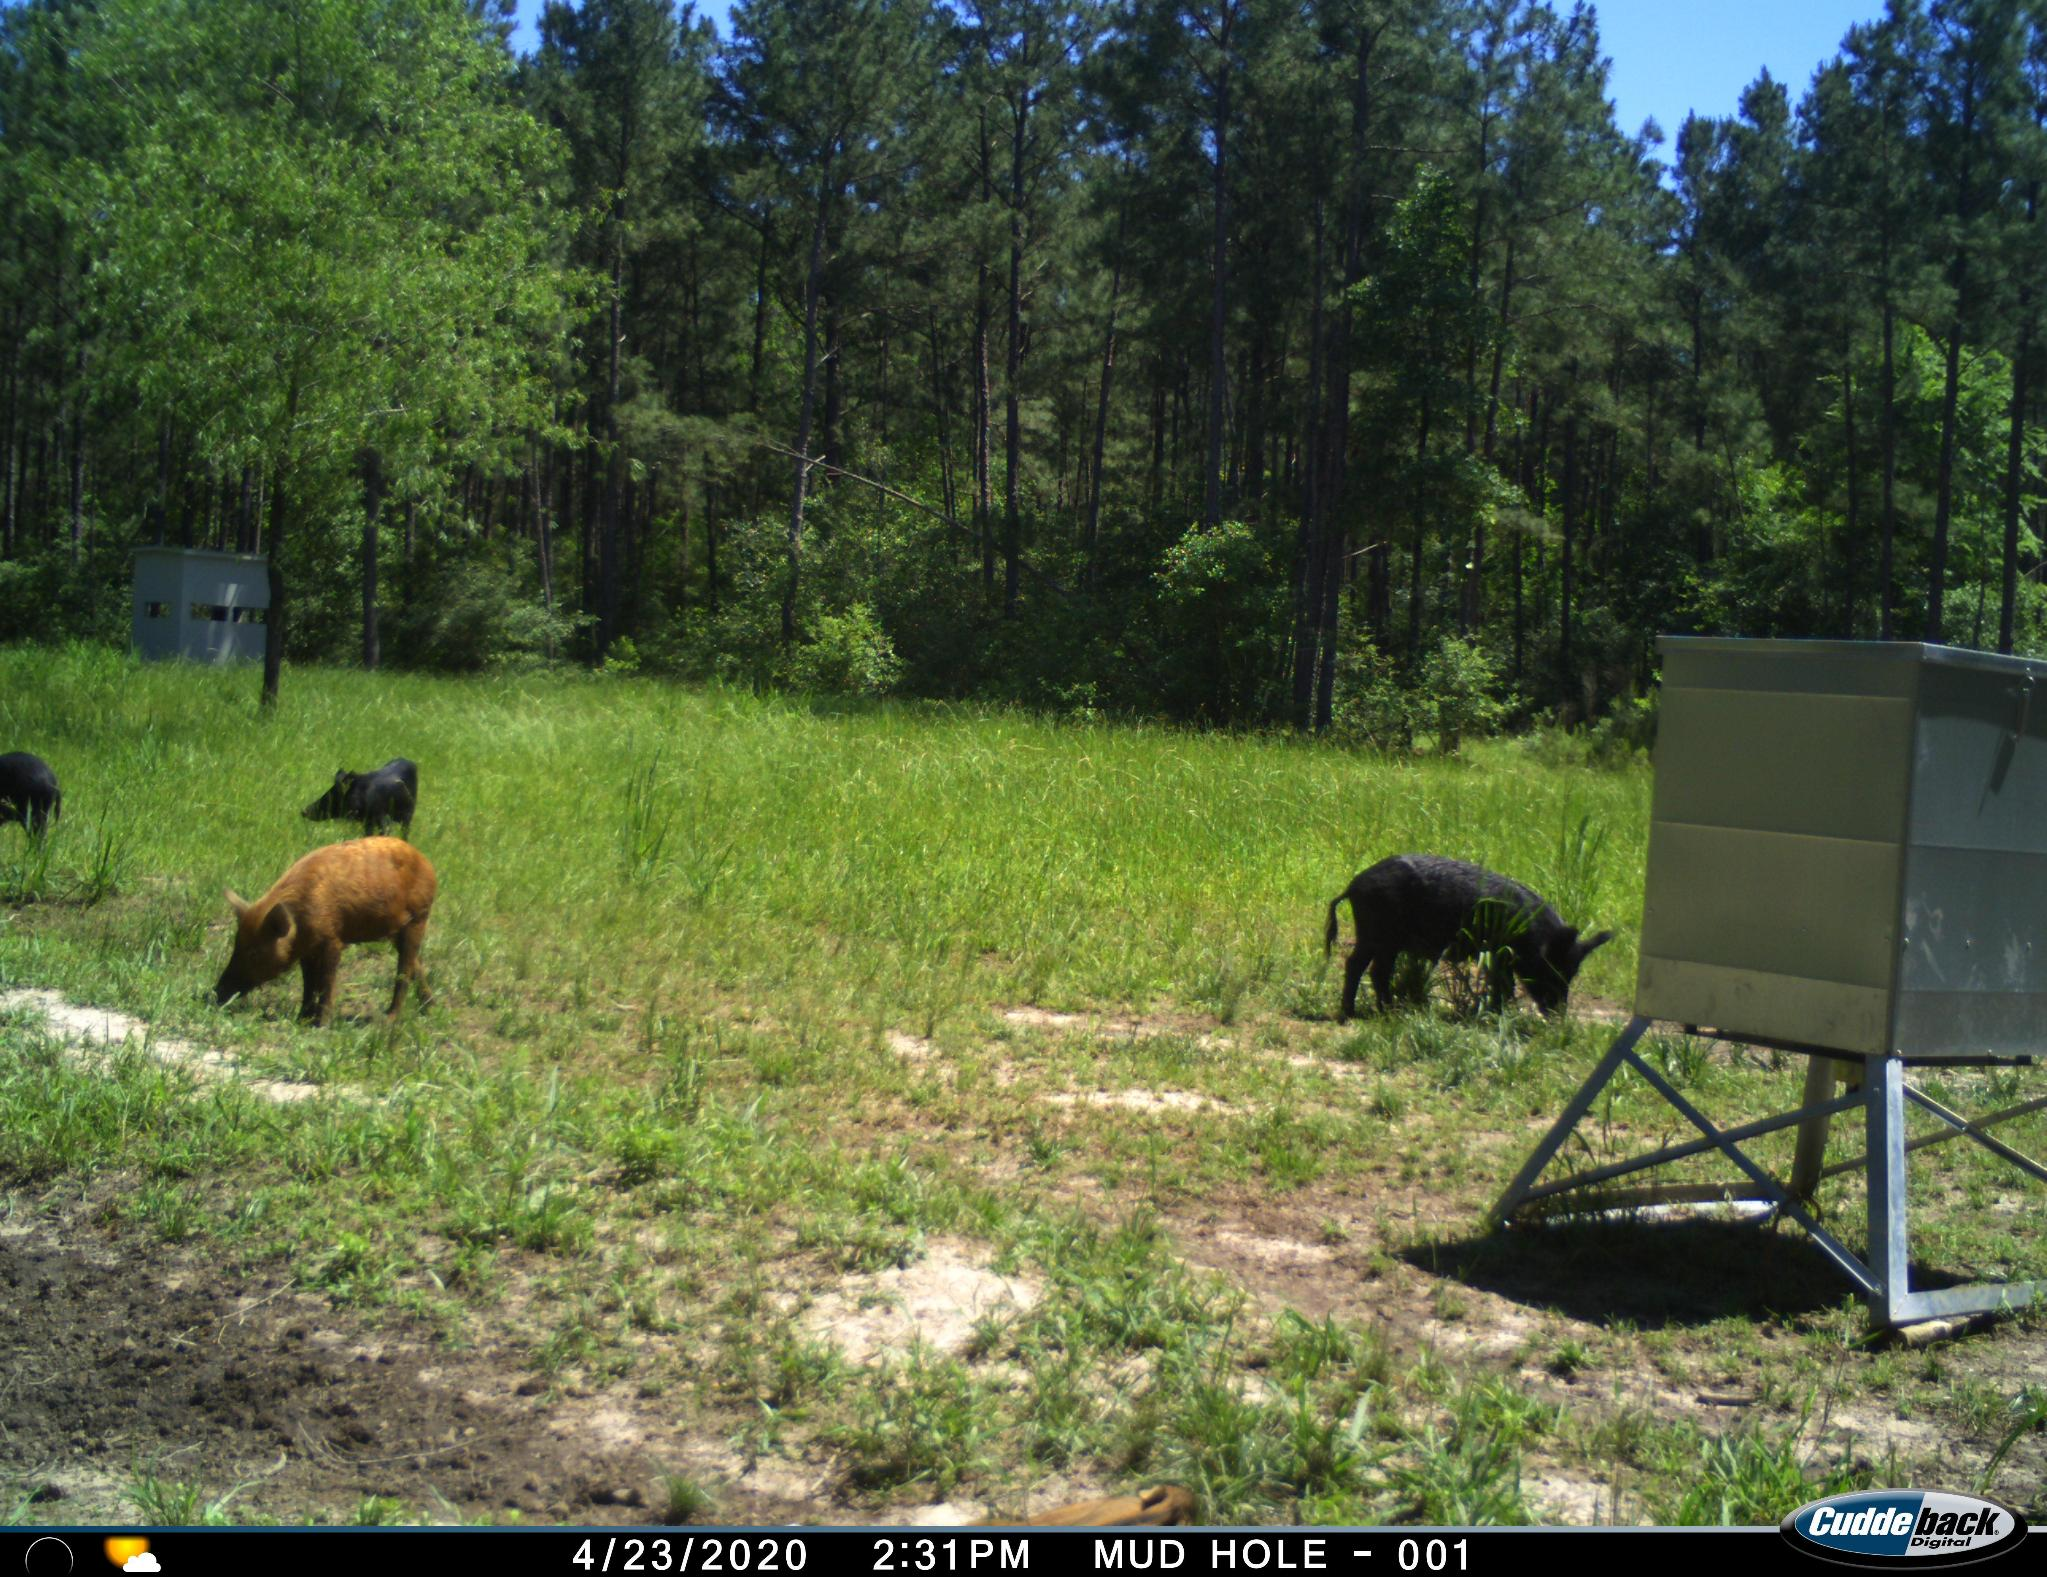Hog: (1318, 846, 1606, 1032), (202, 823, 447, 1032), (301, 754, 432, 851), (0, 739, 68, 851)
